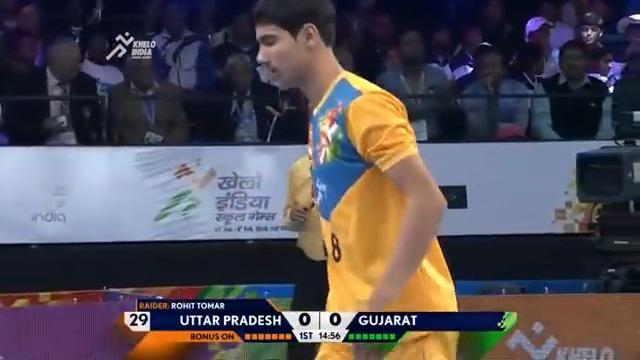Raider: (252, 0, 462, 358)
referee: (280, 150, 328, 358)
